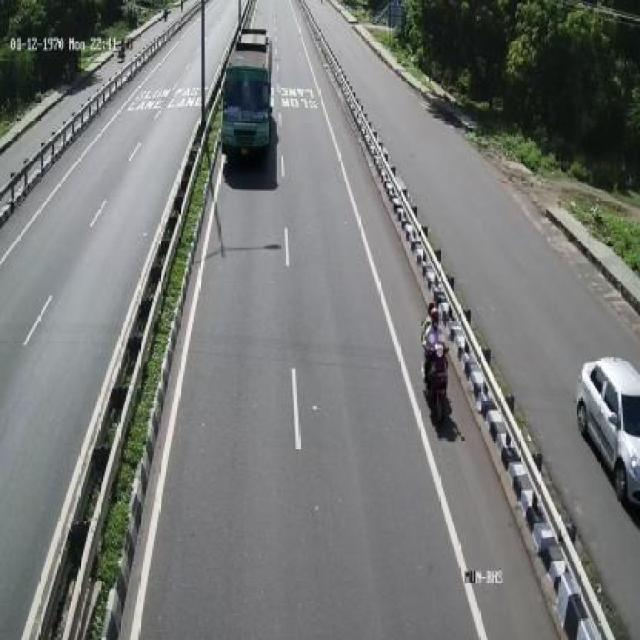car: (581, 350, 640, 504)
